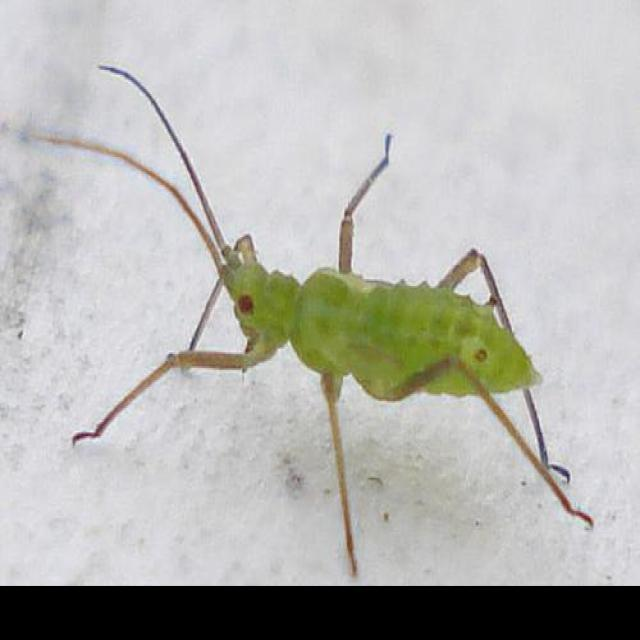Aphids: (41, 45, 599, 567)
